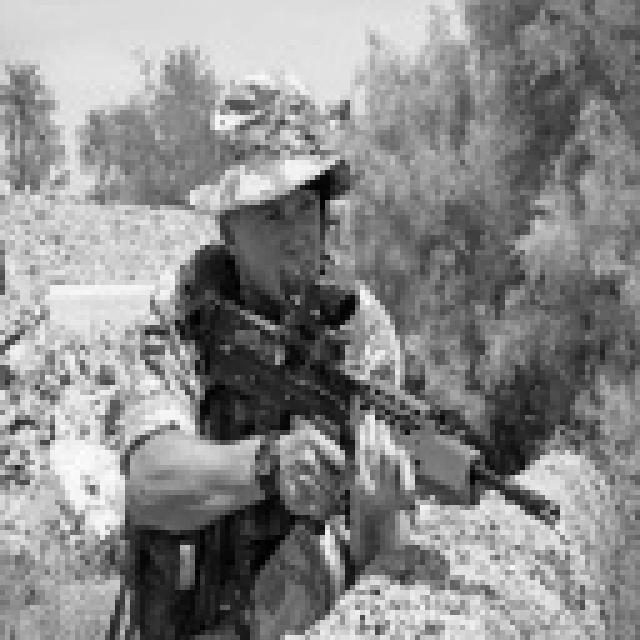Rifle: (155, 230, 583, 618)
